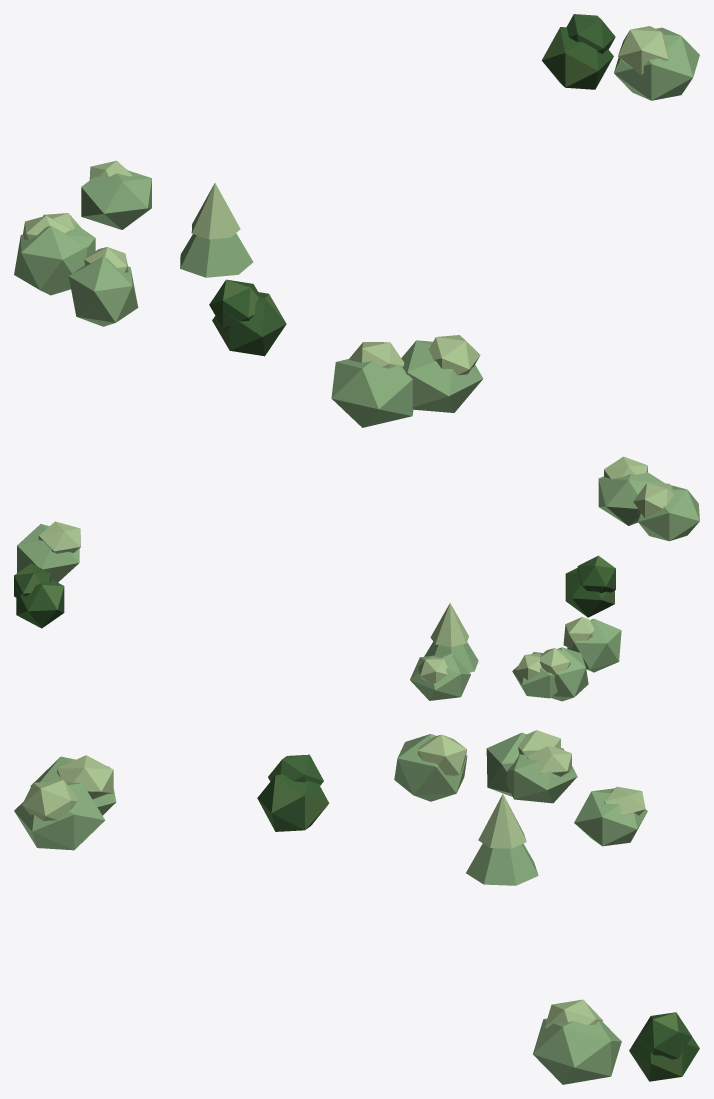
Rendered from deep_clearing_wind_canopies.fbx.
3 views of the same model, one above another, from view 1: azimuth 30°, elevation 25°; view 2: azimuth 150°, elevation 25°; view 3: azimuth 270°, elevation 25° (orthographic). The views are drawn at different scales.
Visible parts, largest first — view 1: chunk_deep_clearing__tree_canopy_07, chunk_deep_clearing__detail_scatter_tree_01_canopy, chunk_deep_clearing__detail_scatter_tree_02_canopy, chunk_deep_clearing__tree_canopy_03, chunk_deep_clearing__tree_canopy_01, chunk_deep_clearing__tree_canopy_11, chunk_deep_clearing__tree_canopy_09, chunk_deep_clearing__tree_canopy_16, chunk_deep_clearing__tree_canopy_12, chunk_deep_clearing__tree_canopy_13, chunk_deep_clearing__tree_canopy_15, chunk_deep_clearing__tree_canopy_14 (+1 smaller); view 2: chunk_deep_clearing__detail_scatter_tree_02_canopy, chunk_deep_clearing__detail_scatter_tree_01_canopy, chunk_deep_clearing__tree_canopy_07, chunk_deep_clearing__tree_canopy_11, chunk_deep_clearing__tree_canopy_16, chunk_deep_clearing__tree_canopy_03, chunk_deep_clearing__tree_canopy_09, chunk_deep_clearing__tree_canopy_01, chunk_deep_clearing__tree_canopy_15, chunk_deep_clearing__tree_canopy_13, chunk_deep_clearing__tree_canopy_08, chunk_deep_clearing__tree_canopy_05 (+6 smaller); view 3: chunk_deep_clearing__tree_canopy_16, chunk_deep_clearing__detail_scatter_tree_01_canopy, chunk_deep_clearing__detail_scatter_tree_02_canopy, chunk_deep_clearing__tree_canopy_11, chunk_deep_clearing__tree_canopy_03, chunk_deep_clearing__tree_canopy_09, chunk_deep_clearing__tree_canopy_12, chunk_deep_clearing__tree_canopy_05, chunk_deep_clearing__tree_canopy_14, chunk_deep_clearing__tree_canopy_08, chunk_deep_clearing__tree_canopy_13, chunk_deep_clearing__tree_canopy_01 (+6 smaller).
Boxes of the visible parts, x1,y1,x2,y2 form: chunk_deep_clearing__tree_canopy_07: [331, 358, 413, 427]; chunk_deep_clearing__detail_scatter_tree_01_canopy: [209, 279, 286, 356]; chunk_deep_clearing__detail_scatter_tree_02_canopy: [541, 14, 615, 89]; chunk_deep_clearing__tree_canopy_03: [68, 257, 138, 326]; chunk_deep_clearing__tree_canopy_01: [14, 226, 87, 295]; chunk_deep_clearing__tree_canopy_11: [401, 340, 483, 412]; chunk_deep_clearing__tree_canopy_09: [81, 170, 151, 229]; chunk_deep_clearing__tree_canopy_16: [614, 27, 699, 100]; chunk_deep_clearing__tree_canopy_12: [180, 233, 253, 277]; chunk_deep_clearing__tree_canopy_13: [191, 183, 240, 239]; chunk_deep_clearing__tree_canopy_15: [618, 26, 668, 74]; chunk_deep_clearing__tree_canopy_14: [429, 335, 480, 375]; chunk_deep_clearing__detail_scatter_tree_02_canopy: [14, 563, 64, 628]; chunk_deep_clearing__detail_scatter_tree_01_canopy: [565, 555, 615, 617]; chunk_deep_clearing__tree_canopy_07: [637, 485, 699, 541]; chunk_deep_clearing__tree_canopy_11: [598, 472, 664, 525]; chunk_deep_clearing__tree_canopy_16: [17, 524, 79, 582]; chunk_deep_clearing__tree_canopy_03: [567, 618, 621, 672]; chunk_deep_clearing__tree_canopy_09: [410, 653, 470, 700]; chunk_deep_clearing__tree_canopy_01: [551, 647, 588, 701]; chunk_deep_clearing__tree_canopy_15: [38, 521, 80, 553]; chunk_deep_clearing__tree_canopy_13: [430, 603, 468, 646]; chunk_deep_clearing__tree_canopy_08: [633, 483, 674, 518]; chunk_deep_clearing__tree_canopy_05: [512, 652, 557, 698]; chunk_deep_clearing__tree_canopy_16: [533, 1018, 621, 1084]; chunk_deep_clearing__detail_scatter_tree_01_canopy: [257, 754, 329, 831]; chunk_deep_clearing__detail_scatter_tree_02_canopy: [629, 1012, 699, 1081]; chunk_deep_clearing__tree_canopy_11: [14, 780, 105, 850]; chunk_deep_clearing__tree_canopy_03: [394, 734, 467, 801]; chunk_deep_clearing__tree_canopy_09: [574, 788, 647, 846]; chunk_deep_clearing__tree_canopy_12: [466, 843, 538, 885]; chunk_deep_clearing__tree_canopy_05: [505, 748, 577, 803]; chunk_deep_clearing__tree_canopy_14: [22, 780, 77, 820]; chunk_deep_clearing__tree_canopy_08: [57, 755, 113, 799]; chunk_deep_clearing__tree_canopy_13: [478, 794, 526, 848]; chunk_deep_clearing__tree_canopy_01: [486, 732, 526, 796].
Bounding box in the file's own units: 191 × 24.28 × 164.
